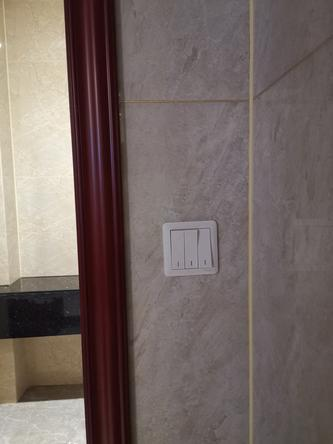switch: (181, 225, 202, 272), (194, 227, 215, 269), (169, 228, 189, 270)
